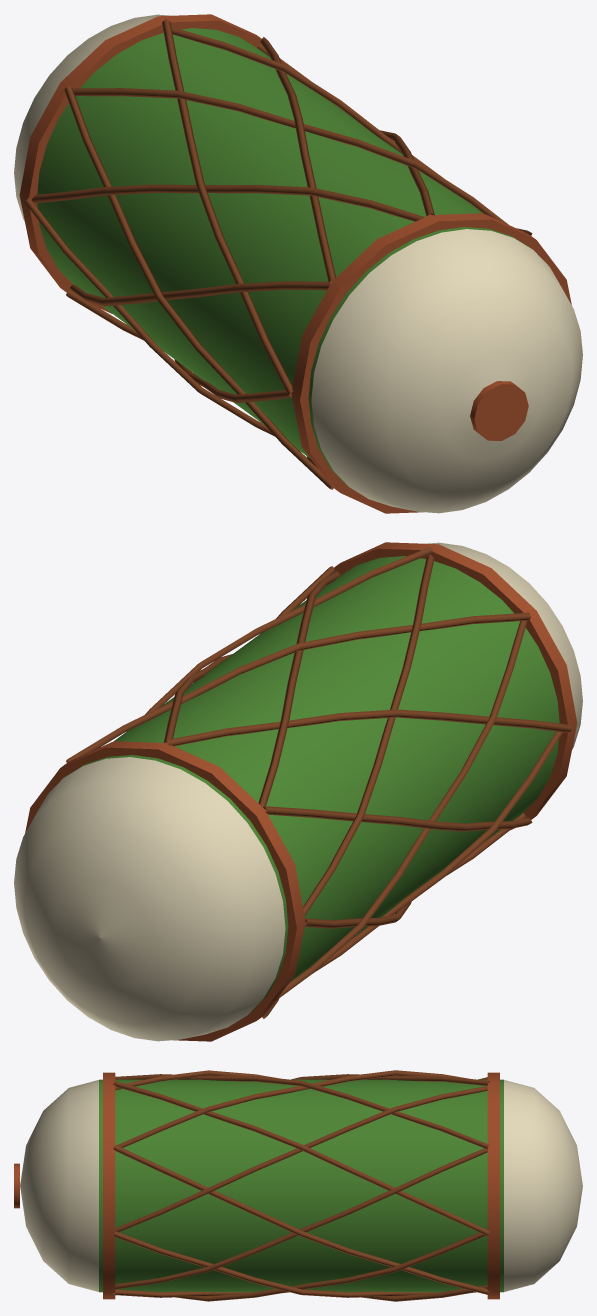
The model's file is u500_scrubber.obj.
3 renders of one model, top to bottom at view 1: azimuth 30°, elevation 25°; view 2: azimuth 150°, elevation 25°; view 3: azimuth 270°, elevation 25°, orthographic. The views are drawn at different scales.
Visible parts, largest first — view 1: u500_scrubber; view 2: u500_scrubber; view 3: u500_scrubber.
Boxes of the visible parts, x1=… form: u500_scrubber: x1=14, y1=14, x2=582, y2=513; u500_scrubber: x1=14, y1=542, x2=582, y2=1041; u500_scrubber: x1=14, y1=1070, x2=582, y2=1301.
Bounding box in the file's own units: 2.29 × 2.29 × 5.62.
